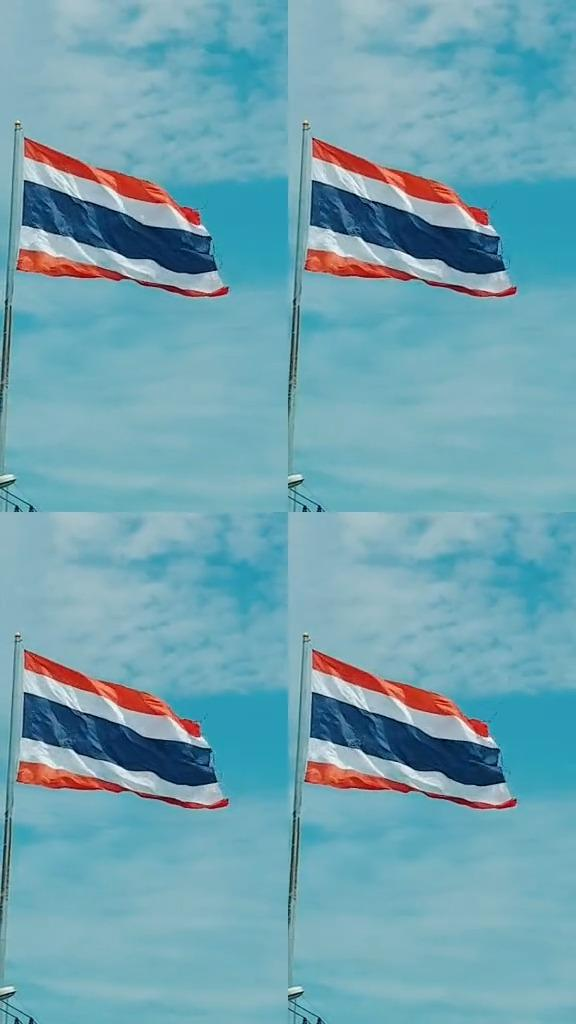Thailand: (306, 648, 519, 815), (16, 648, 233, 811), (16, 136, 232, 298), (306, 136, 518, 300)
